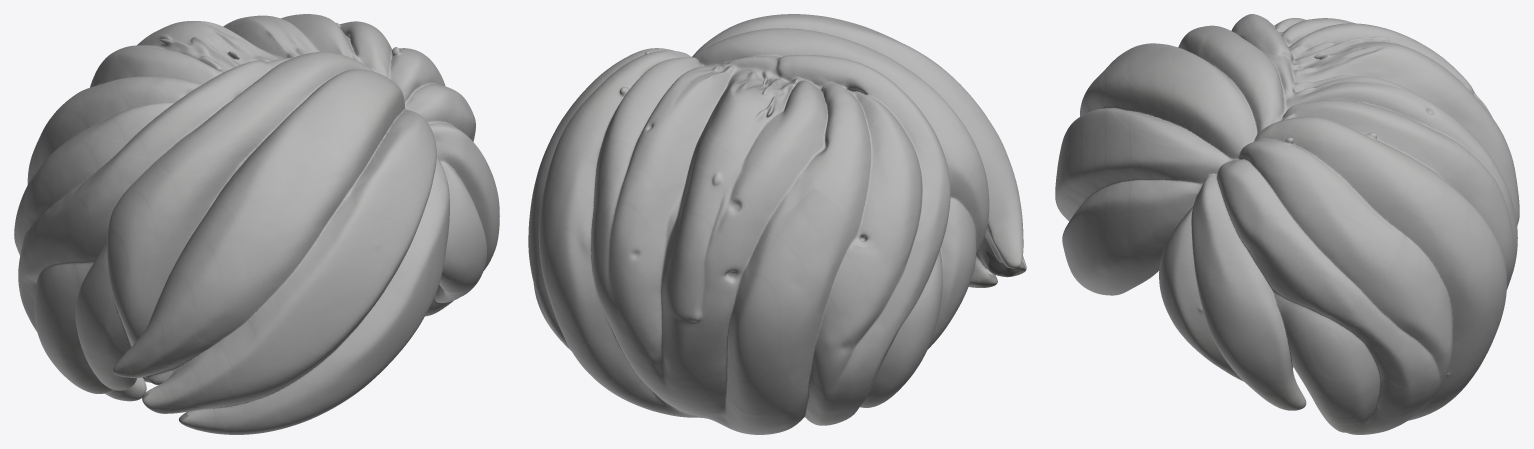
File: hair_male_short.glb
3 views of the same model, side by side, from view 1: azimuth 30°, elevation 25°; view 2: azimuth 150°, elevation 25°; view 3: azimuth 270°, elevation 25° (orthographic). The views are drawn at different scales.
Visible parts, largest first — view 1: tripo_node_73ccc504-4cc9-440f-abca-4dda1900d573; view 2: tripo_node_73ccc504-4cc9-440f-abca-4dda1900d573; view 3: tripo_node_73ccc504-4cc9-440f-abca-4dda1900d573.
Boxes of the visible parts, x1,y1,x2,y2 form: tripo_node_73ccc504-4cc9-440f-abca-4dda1900d573: (14,14,499,434); tripo_node_73ccc504-4cc9-440f-abca-4dda1900d573: (528,14,1026,434); tripo_node_73ccc504-4cc9-440f-abca-4dda1900d573: (1055,14,1519,434).
Size of the model in its own units: 1 by 0.8235 by 0.9919.
Materials: 1 (1 with a texture image).
